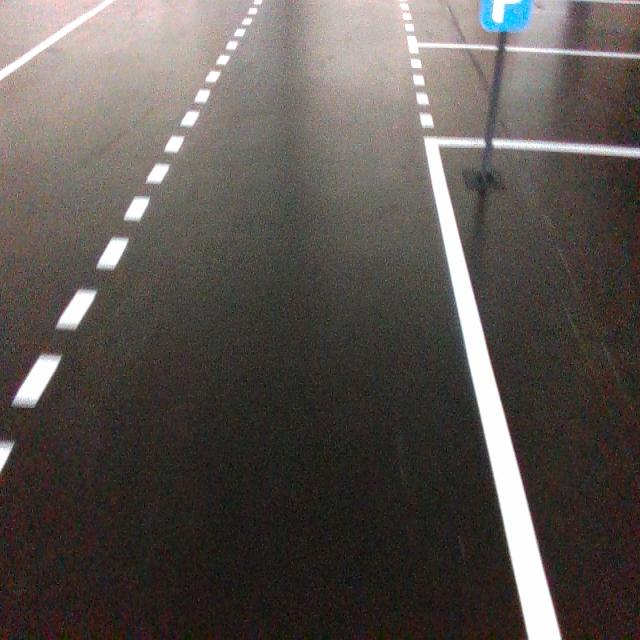parking-sign: (479, 0, 532, 32)
